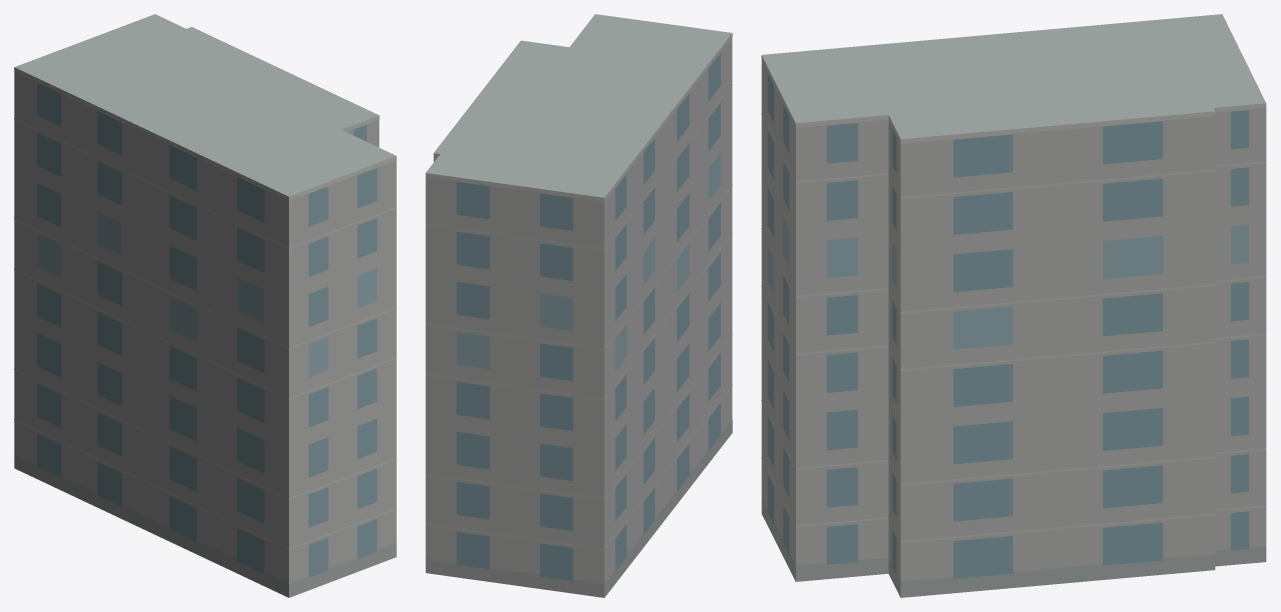
Rendered from survey-upis-32818968.glb.
3 renders of one model, left to right at view 1: azimuth 30°, elevation 25°; view 2: azimuth 150°, elevation 25°; view 3: azimuth 270°, elevation 25°, orthographic. The views are drawn at different scales.
Visible parts, largest first — view 1: survey-upis-32818968.tmp; view 2: survey-upis-32818968.tmp; view 3: survey-upis-32818968.tmp.
Part boxes in pixels (<box>): survey-upis-32818968.tmp: <box>14,14,396,597</box>; survey-upis-32818968.tmp: <box>425,14,732,597</box>; survey-upis-32818968.tmp: <box>761,14,1266,597</box>.
Bounding box in the file's own units: 13.67 × 23.3 × 23.26.
